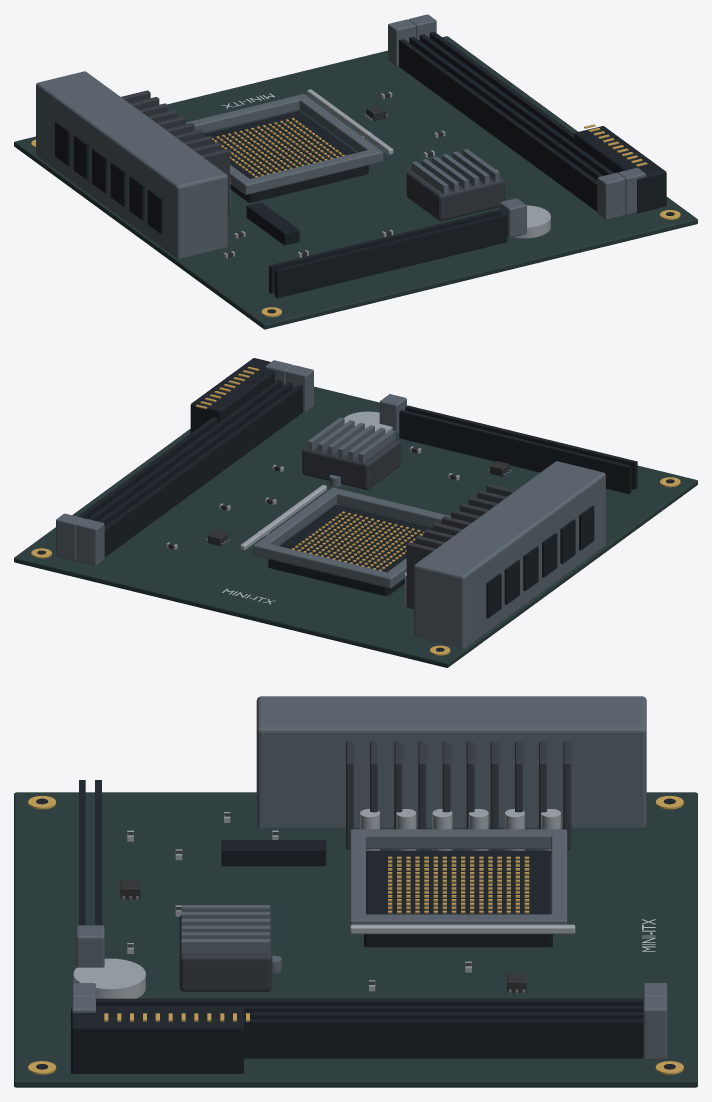
Rendered from motherboard-mini-itx.glb.
3 renders of one model, top to bottom at view 1: azimuth 30°, elevation 25°; view 2: azimuth 150°, elevation 25°; view 3: azimuth 270°, elevation 25°, orthographic. The views are drawn at different scales.
Parts seen in each view (by area): view 1: Motherboard_PCB_Deep_Slate, Motherboard_Plastic_Black, Motherboard_Metal_Dark_Steel, Motherboard_Paint_Graphite, Motherboard_Contact_Gold, Motherboard_Metal_Aluminum, Motherboard_Chip_Ceramic; view 2: Motherboard_PCB_Deep_Slate, Motherboard_Plastic_Black, Motherboard_Metal_Dark_Steel, Motherboard_Paint_Graphite, Motherboard_Contact_Gold, Motherboard_Metal_Aluminum, Motherboard_Chip_Ceramic; view 3: Motherboard_PCB_Deep_Slate, Motherboard_Metal_Dark_Steel, Motherboard_Plastic_Black, Motherboard_Paint_Graphite, Motherboard_Metal_Aluminum, Motherboard_Contact_Gold, Motherboard_Chip_Ceramic.
Part boxes in pixels (x1,y1,x2,y2): Motherboard_PCB_Deep_Slate: (14,36,697,329); Motherboard_Plastic_Black: (55,31,674,313); Motherboard_Metal_Dark_Steel: (36,14,645,258); Motherboard_Paint_Graphite: (121,90,504,221); Motherboard_Contact_Gold: (31,118,680,317); Motherboard_Metal_Aluminum: (223,89,550,258); Motherboard_Chip_Ceramic: (226,92,443,257); Motherboard_PCB_Deep_Slate: (14,386,697,667); Motherboard_Plastic_Black: (37,358,674,651); Motherboard_Metal_Dark_Steel: (56,360,605,648); Motherboard_Paint_Graphite: (302,439,515,608); Motherboard_Contact_Gold: (31,366,680,655); Motherboard_Metal_Aluminum: (166,411,459,603); Motherboard_Chip_Ceramic: (168,447,509,549); Motherboard_PCB_Deep_Slate: (14,792,697,1087); Motherboard_Metal_Dark_Steel: (72,696,667,1059); Motherboard_Plastic_Black: (36,780,675,1073); Motherboard_Paint_Graphite: (179,741,571,991); Motherboard_Metal_Aluminum: (73,809,575,998); Motherboard_Contact_Gold: (28,795,683,1074); Motherboard_Chip_Ceramic: (120,813,526,992).
Bounding box in the file's own units: 0.17 × 0.029 × 0.17.
